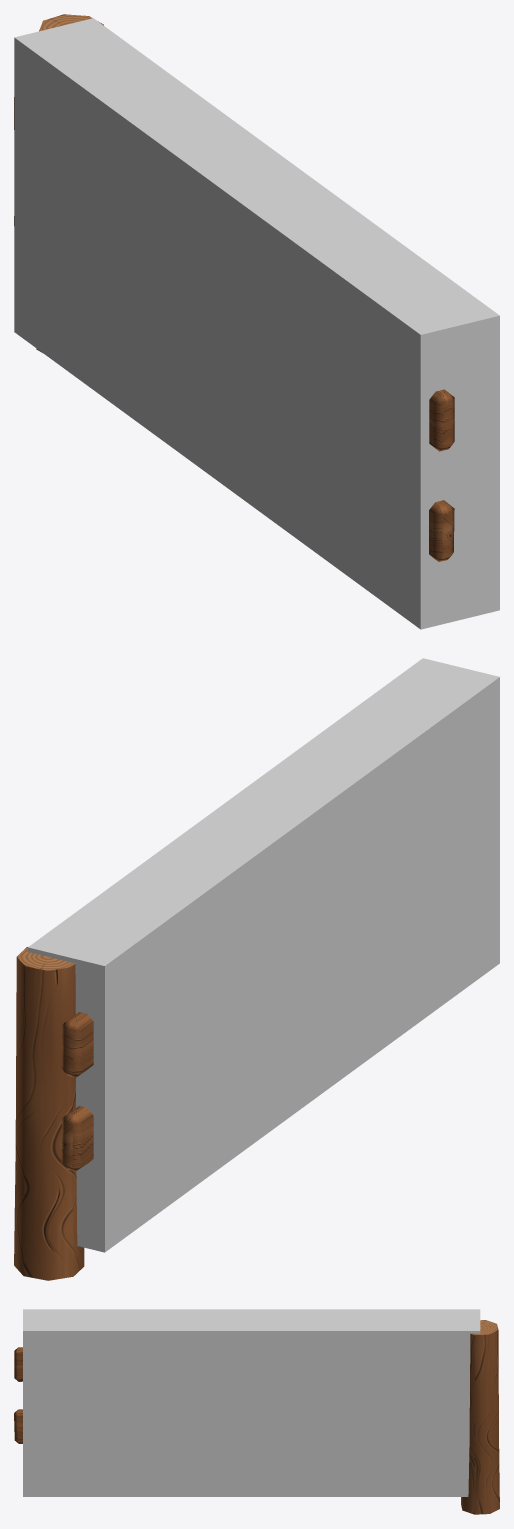
Rendered from SM_Fence_Wood.fbx.
The picture shows the model from 3 angles, top to bottom: view 1: azimuth 30°, elevation 25°; view 2: azimuth 150°, elevation 25°; view 3: azimuth 270°, elevation 25°; orthographic projection. The views are drawn at different scales.
Visible parts, largest first — view 1: FenceBay_Col0, FenceBay_Body; view 2: FenceBay_Col0, FenceBay_Body; view 3: FenceBay_Col0, FenceBay_Body.
Part boxes in pixels (x1,y1,x2,y2): FenceBay_Col0: [14, 18, 499, 629]; FenceBay_Body: [14, 14, 454, 561]; FenceBay_Col0: [28, 658, 499, 1252]; FenceBay_Body: [14, 947, 93, 1280]; FenceBay_Col0: [23, 1309, 480, 1496]; FenceBay_Body: [14, 1320, 499, 1514].
Bounding box in the file's own units: 0.992 × 3.5 × 8.5.
